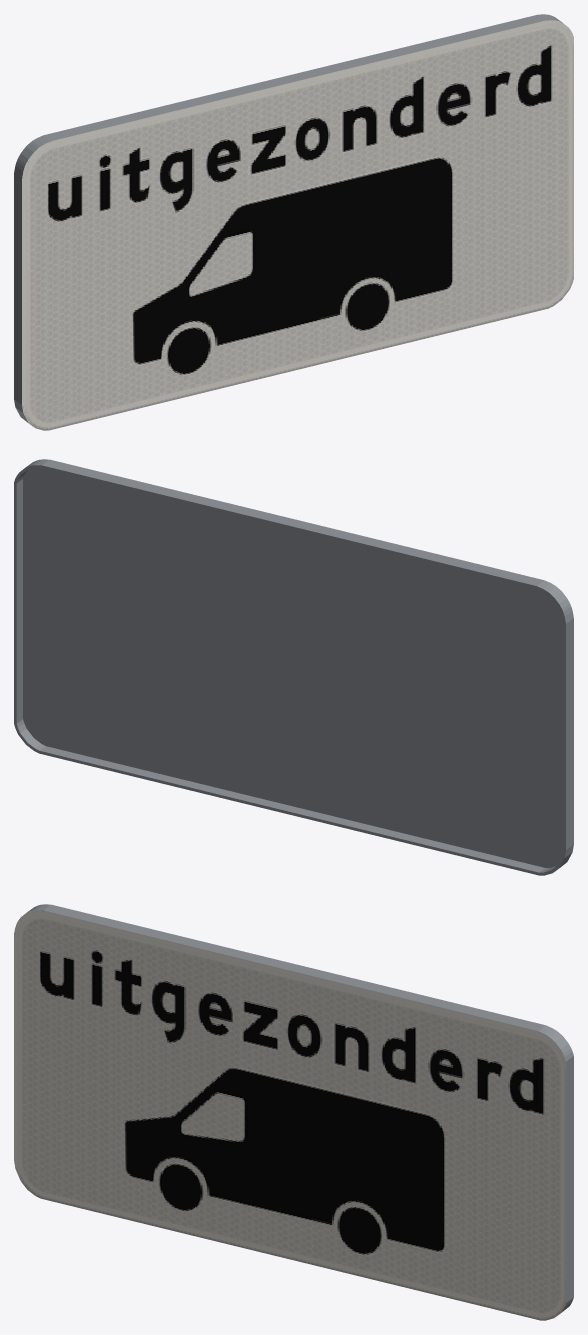
The picture shows the model from 3 angles, top to bottom: view 1: azimuth 30°, elevation 25°; view 2: azimuth 150°, elevation 25°; view 3: azimuth 330°, elevation 25°; orthographic projection.
Visible parts, largest first — view 1: cat_00a6f7a4950e4c5f; view 2: cat_00a6f7a4950e4c5f; view 3: cat_00a6f7a4950e4c5f.
Part boxes in pixels (<box>): cat_00a6f7a4950e4c5f: <box>14,14,573,430</box>; cat_00a6f7a4950e4c5f: <box>14,459,573,875</box>; cat_00a6f7a4950e4c5f: <box>14,904,573,1320</box>.
Size of the model in its own units: 0.6 by 0.015 by 0.3.
Materials: 2 (1 with a texture image).
